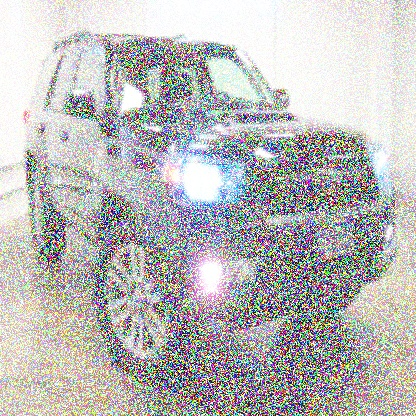Vehicle: (24, 25, 400, 386)
